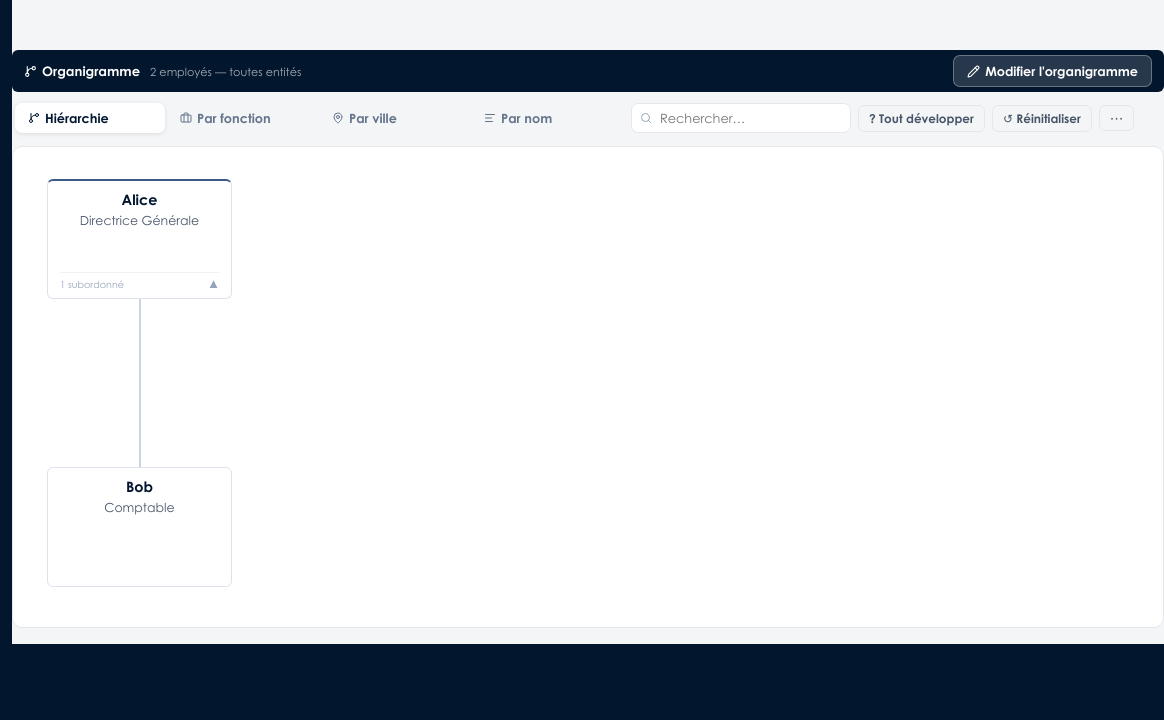
OrgChart export buttons (PDF / PNG / Excel) › affiche les 3 boutons d'export en vue hiérarchie (par défaut)
The image size is (1164, 720).
Click the button named "Exporter": (1117, 118) [1099, 105, 1134, 131]
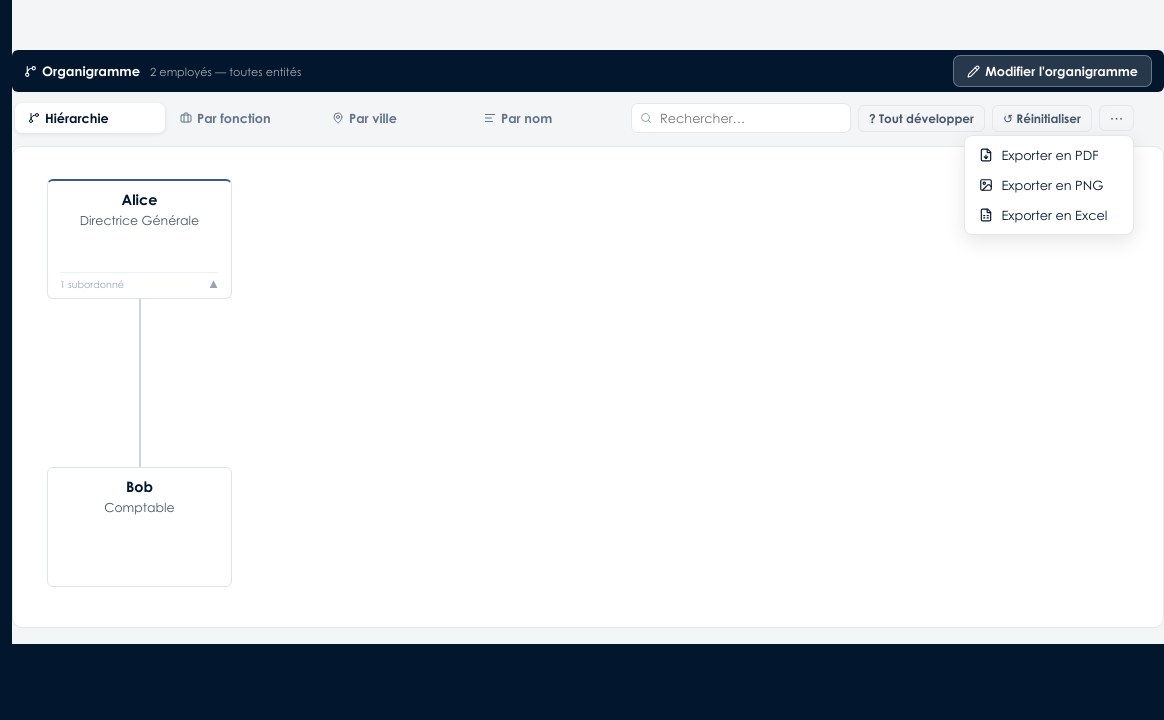
Expected: the menu item "Exporter en PDF" is shown, [970, 140, 1130, 170]
Expected: the menu item "Exporter en PNG" is shown, [970, 170, 1130, 200]
Expected: the menu item "Exporter en Excel" is shown, [970, 200, 1130, 230]
